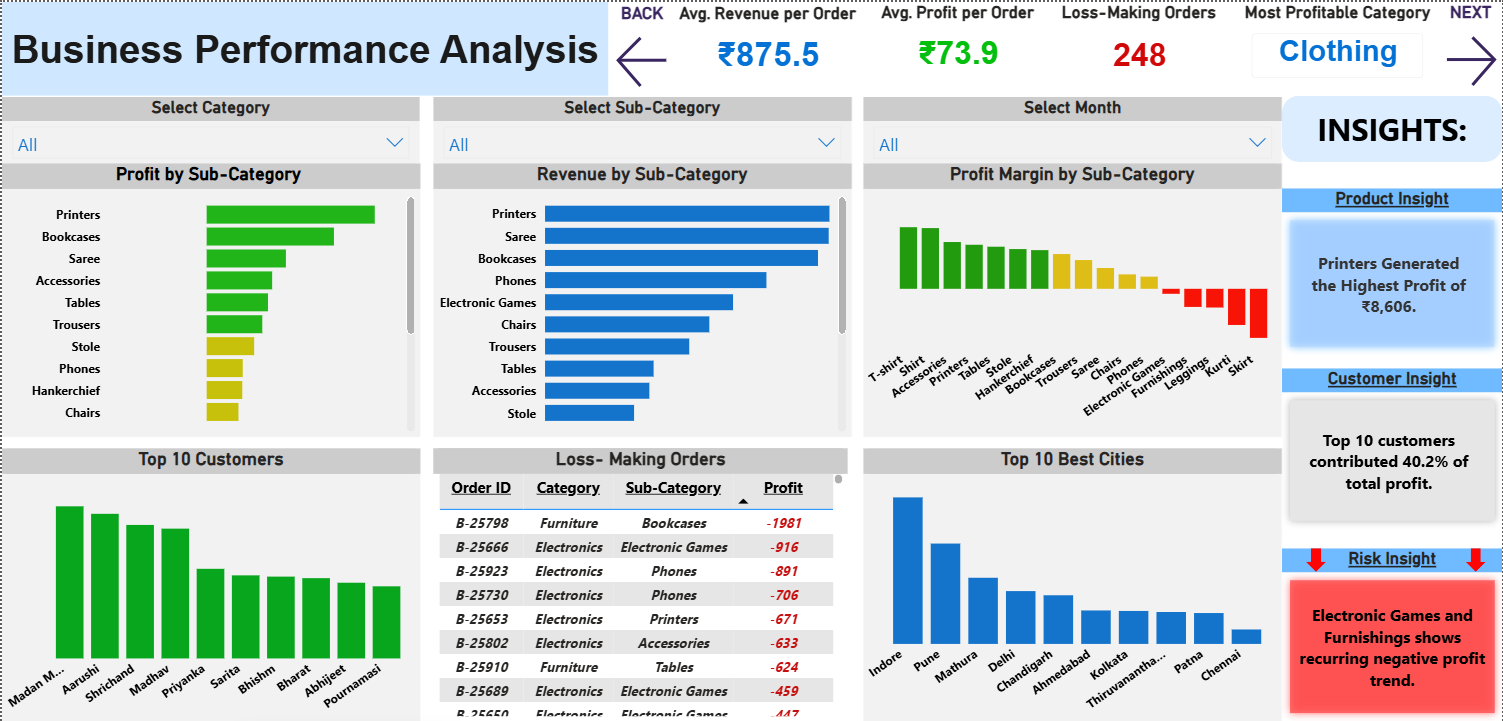

Layout of this report page (visuals, bound fields, positions):
{"tool":"powerbi","page":{"name":"Business  Performance Analysis","canvas":[1500,720],"ordinal":1},"visuals":[{"type":"shape","box":[0,0,606.2,93.8],"z":0},{"type":"cardVisual","title":"Avg. Revenue per Order","fields":{"Data":["Details.Avg Revenue per order"]},"box":[670,1.2,191.2,93.8],"z":1000},{"type":"cardVisual","title":"Avg. Profit per Order","fields":{"Data":["Details.Average Profit per Order"]},"box":[869.6,0,171.2,94.2],"z":2000},{"type":"cardVisual","title":"Loss-Making Orders","fields":{"Data":["Details.Loss Making Orders"]},"box":[1041.2,0,191.2,93.8],"z":3000},{"type":"cardVisual","title":"Most Profitable Category","fields":{"Data":["Details.Top Performing Category"]},"box":[1232.5,0,206.2,93.8],"z":4000},{"type":"barChart","title":"Profit by Sub-Category","fields":{"Category":["Details.sub_category"],"Y":["Details.Total Profit"]},"box":[0,160.8,418,273.4],"z":5000},{"type":"clusteredBarChart","title":"Revenue by Sub-Category","fields":{"Category":["Details.sub_category"],"Y":["Details.Total Revenue"]},"box":[430.8,160.8,418,273.4],"z":6000},{"type":"columnChart","title":"Profit Margin by Sub-Category","fields":{"Category":["Details.sub_category"],"Y":["Details.Profit Margin"]},"box":[861.5,160.8,418.1,273.4],"z":7000},{"type":"tableEx","title":"Loss- Making Orders","fields":{"Values":["Details.order_id","Details.category","Details.sub_category","Sum(Details.profit)"]},"box":[430.8,446.8,414.7,273.4],"z":8000},{"type":"columnChart","title":"Top 10 Customers","fields":{"Category":["Orders.customer_name"],"Y":["Details.Total Profit"]},"box":[0,446.8,418.1,273.4],"z":9000},{"type":"columnChart","title":"Top 10 Best Cities","fields":{"Category":["Orders.city"],"Y":["Details.Total Revenue"]},"box":[861.5,446.7,418.8,273.9],"z":10000},{"type":"slicer","title":"Select Category","fields":{"Values":["Details.category"]},"box":[0,94.4,417.5,66.5],"z":11000},{"type":"slicer","title":"Select Sub-Category","fields":{"Values":["Details.sub_category"]},"box":[430.7,94.4,418,66.5],"z":12000},{"type":"slicer","title":"Select Month","fields":{"Values":["Orders.Month"]},"box":[861.5,94.4,418.8,66.5],"z":13000},{"type":"shape","box":[1280.1,93.8,220.2,66.2],"z":14000},{"type":"shape","title":"Product Insight","box":[1279.9,186.8,220.4,167],"z":15000},{"type":"shape","title":"Customer Insight","box":[1279.5,366.6,220.7,160.8],"z":16000},{"type":"shape","title":"Risk Insight","box":[1279.5,546.4,220.7,173.1],"z":17000},{"type":"shape","box":[1303.2,546.3,20.5,23.7],"z":18000},{"type":"shape","box":[1464.2,546.3,20,23.7],"z":19000},{"type":"actionButton","title":"BACK","box":[608.8,1.2,63,93],"z":19001},{"type":"actionButton","title":"NEXT","box":[1437.5,0,62.5,93.8],"z":19002}]}

Visuals, with their boxes in screenshot pixels (x1, y1, x2, y2), scaled from the page's 1500x720 canvas onto the 1503x721 screenshot:
shape: locate(0, 0, 607, 94)
"Avg. Revenue per Order" cardVisual: locate(671, 1, 863, 95)
"Avg. Profit per Order" cardVisual: locate(871, 0, 1043, 94)
"Loss-Making Orders" cardVisual: locate(1043, 0, 1235, 94)
"Most Profitable Category" cardVisual: locate(1235, 0, 1442, 94)
"Profit by Sub-Category" barChart: locate(0, 161, 419, 435)
"Revenue by Sub-Category" clusteredBarChart: locate(432, 161, 850, 435)
"Profit Margin by Sub-Category" columnChart: locate(863, 161, 1282, 435)
"Loss- Making Orders" tableEx: locate(432, 447, 847, 720)
"Top 10 Customers" columnChart: locate(0, 447, 419, 720)
"Top 10 Best Cities" columnChart: locate(863, 447, 1283, 720)
"Select Category" slicer: locate(0, 95, 418, 161)
"Select Sub-Category" slicer: locate(432, 95, 850, 161)
"Select Month" slicer: locate(863, 95, 1283, 161)
shape: locate(1283, 94, 1502, 160)
"Product Insight" shape: locate(1282, 187, 1502, 354)
"Customer Insight" shape: locate(1282, 367, 1502, 528)
"Risk Insight" shape: locate(1282, 547, 1502, 720)
shape: locate(1306, 547, 1326, 571)
shape: locate(1467, 547, 1487, 571)
"BACK" actionButton: locate(610, 1, 673, 94)
"NEXT" actionButton: locate(1440, 0, 1502, 94)
